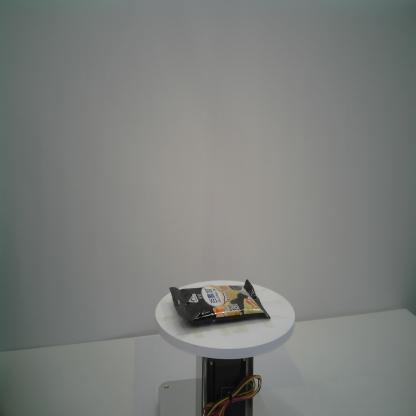Instant Drink: (169, 279, 271, 325)
